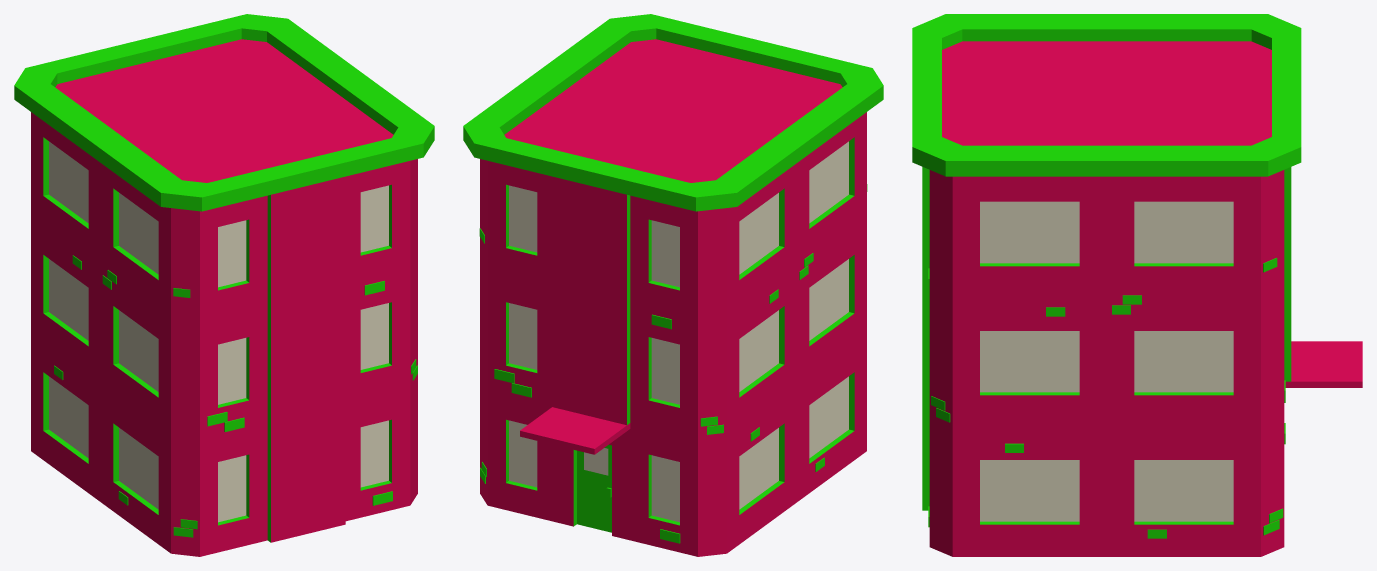
File: house_3.fbx
3 views of the same model, side by side, from view 1: azimuth 30°, elevation 25°; view 2: azimuth 150°, elevation 25°; view 3: azimuth 270°, elevation 25° (orthographic). The views are drawn at different scales.
Parts seen in each view (by area): view 1: Building_8; view 2: Building_8; view 3: Building_8.
Boxes of the visible parts, box(x1,y1,x2,y2) form: Building_8: box(14, 14, 434, 556); Building_8: box(463, 14, 883, 556); Building_8: box(912, 14, 1362, 556).
Size of the model in its own units: 1018 by 1301 by 1316.
